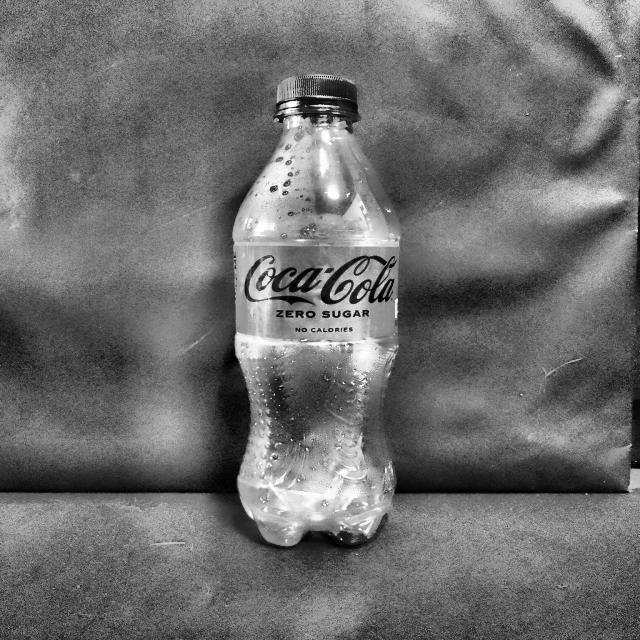Plastic-Bottle: (228, 72, 405, 550)
